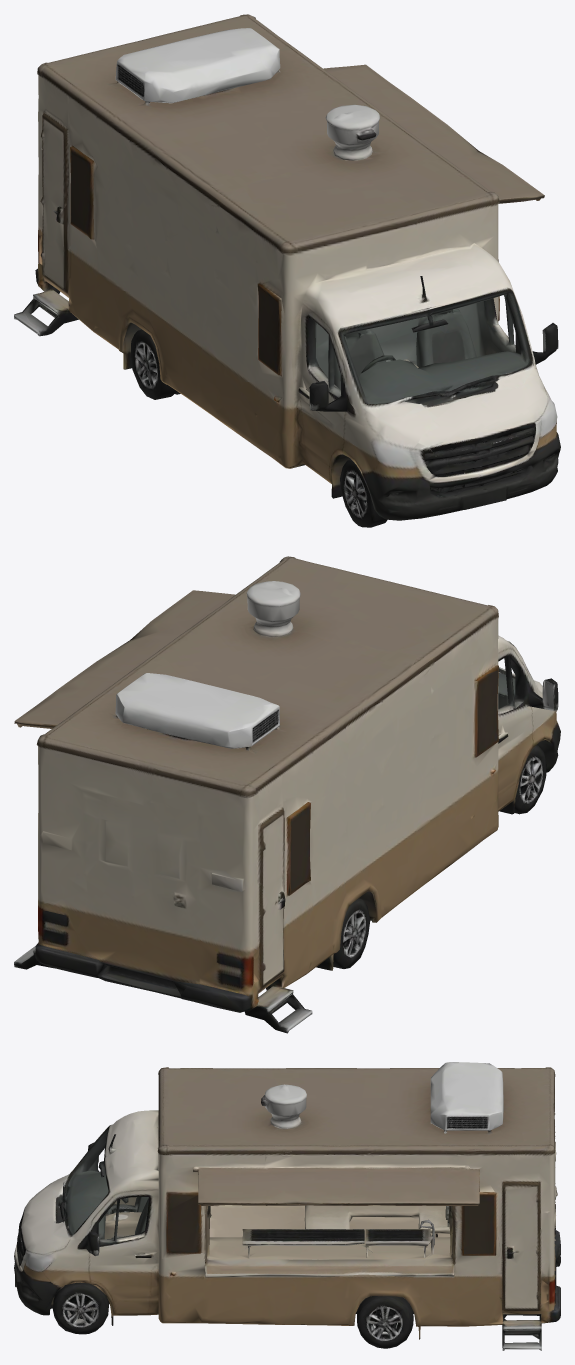
Rendered from food-truck.glb.
3 views of the same model, one above another, from view 1: azimuth 30°, elevation 25°; view 2: azimuth 150°, elevation 25°; view 3: azimuth 270°, elevation 25° (orthographic). The views are drawn at different scales.
Visible parts, largest first — view 1: tripo_node_7d2051b3-c374-4fb2-9318-afdbccbcb90b; view 2: tripo_node_7d2051b3-c374-4fb2-9318-afdbccbcb90b; view 3: tripo_node_7d2051b3-c374-4fb2-9318-afdbccbcb90b.
Boxes of the visible parts, left/top/right/bottom form: tripo_node_7d2051b3-c374-4fb2-9318-afdbccbcb90b: left=14, top=14, right=560, bottom=527; tripo_node_7d2051b3-c374-4fb2-9318-afdbccbcb90b: left=14, top=556, right=560, bottom=1033; tripo_node_7d2051b3-c374-4fb2-9318-afdbccbcb90b: left=14, top=1062, right=560, bottom=1350.
Size of the model in its own units: 0.521 by 0.4766 by 1.
Materials: 1 (1 with a texture image).
